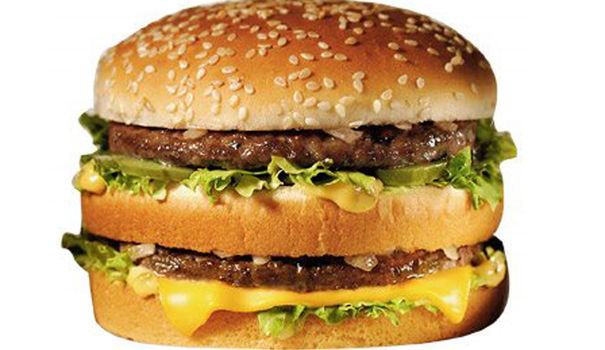hamburger: (53, 5, 537, 350)
